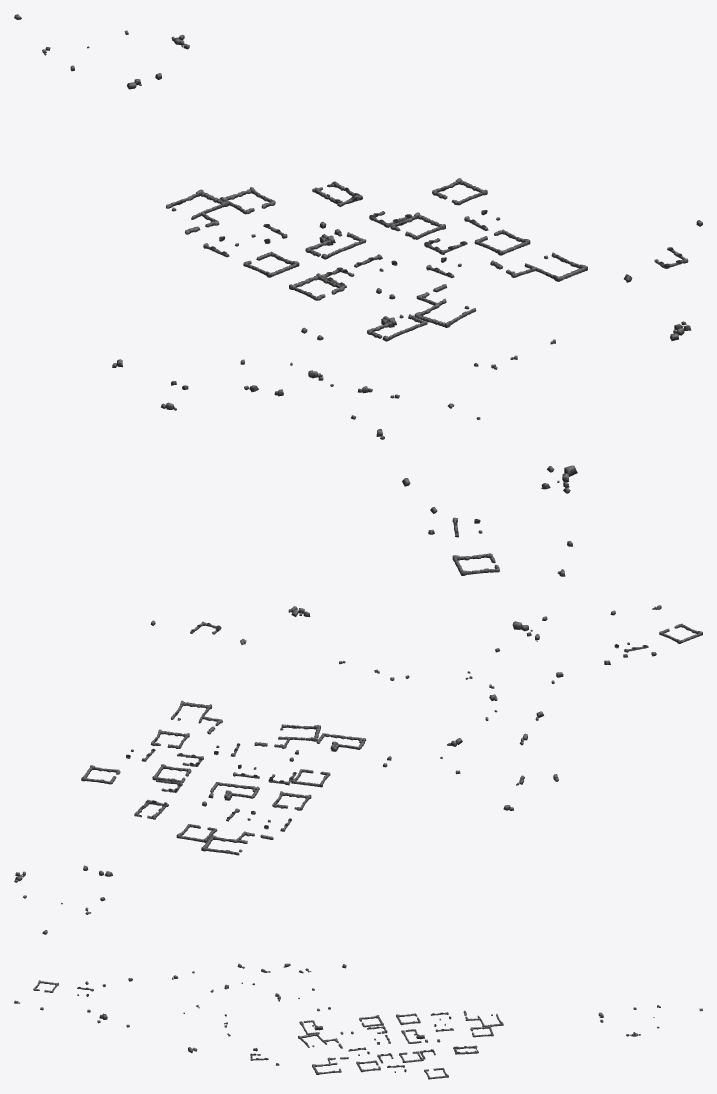
File: LittleRocks.FBX
The picture shows the model from 3 angles, top to bottom: view 1: azimuth 30°, elevation 25°; view 2: azimuth 150°, elevation 25°; view 3: azimuth 270°, elevation 25°; orthographic projection. The views are drawn at different scales.
Parts seen in each view (by area): view 1: Object2852; view 2: Object2852; view 3: Object2852.
Part boxes in pixels (left/top/right/bottom): Object2852: left=14, top=14, right=702, bottom=576; Object2852: left=14, top=605, right=702, bottom=934; Object2852: left=14, top=963, right=702, bottom=1079.
Size of the model in its own units: 418 by 56.03 by 910.
